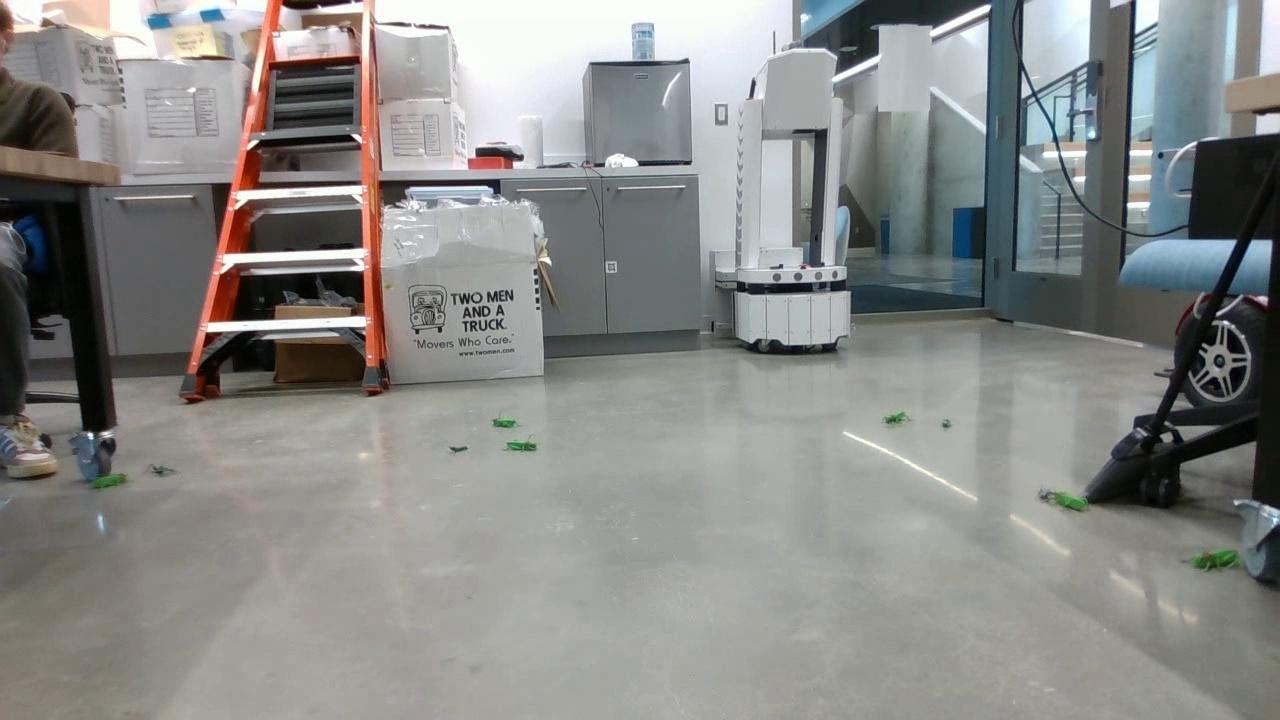grasshopper: (1183, 544, 1249, 577), (1050, 488, 1092, 515), (93, 473, 133, 491), (881, 410, 912, 430), (504, 440, 544, 454), (491, 418, 525, 430)
